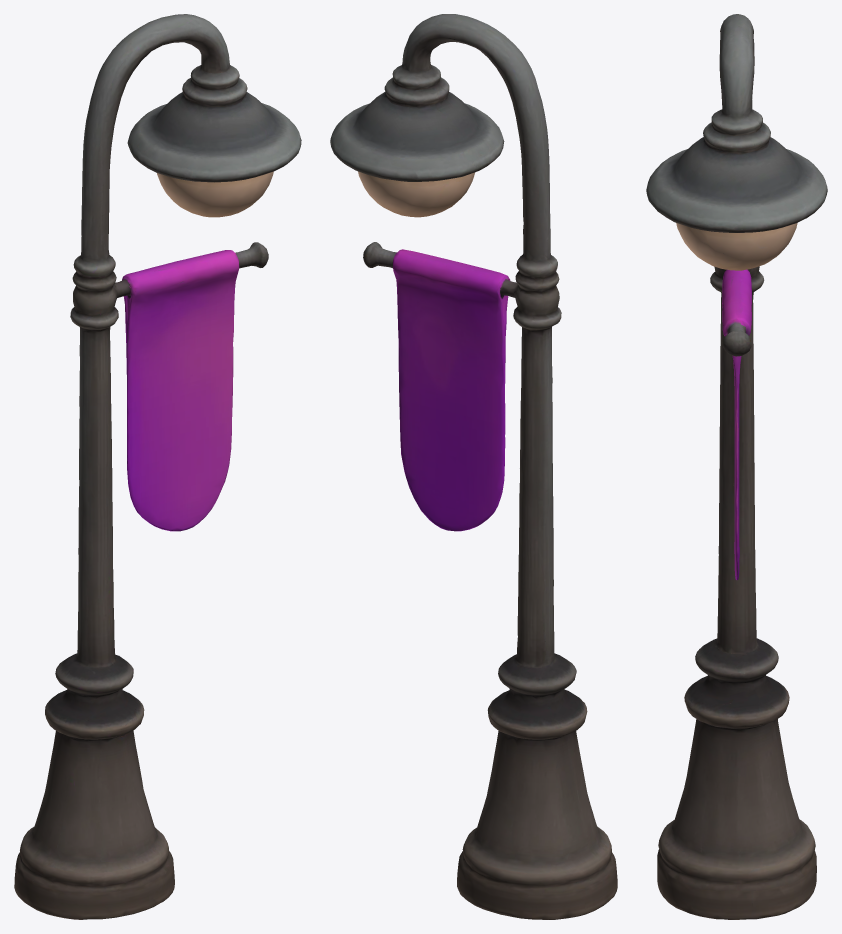
Rendered from bb_banner_lamp.glb.
3 views of the same model, side by side, from view 1: azimuth 30°, elevation 25°; view 2: azimuth 150°, elevation 25°; view 3: azimuth 270°, elevation 25° (orthographic). The views are drawn at different scales.
Bounding box in the file's own units: 0.3253 × 1 × 0.1829.
1 material, 1 textured.
